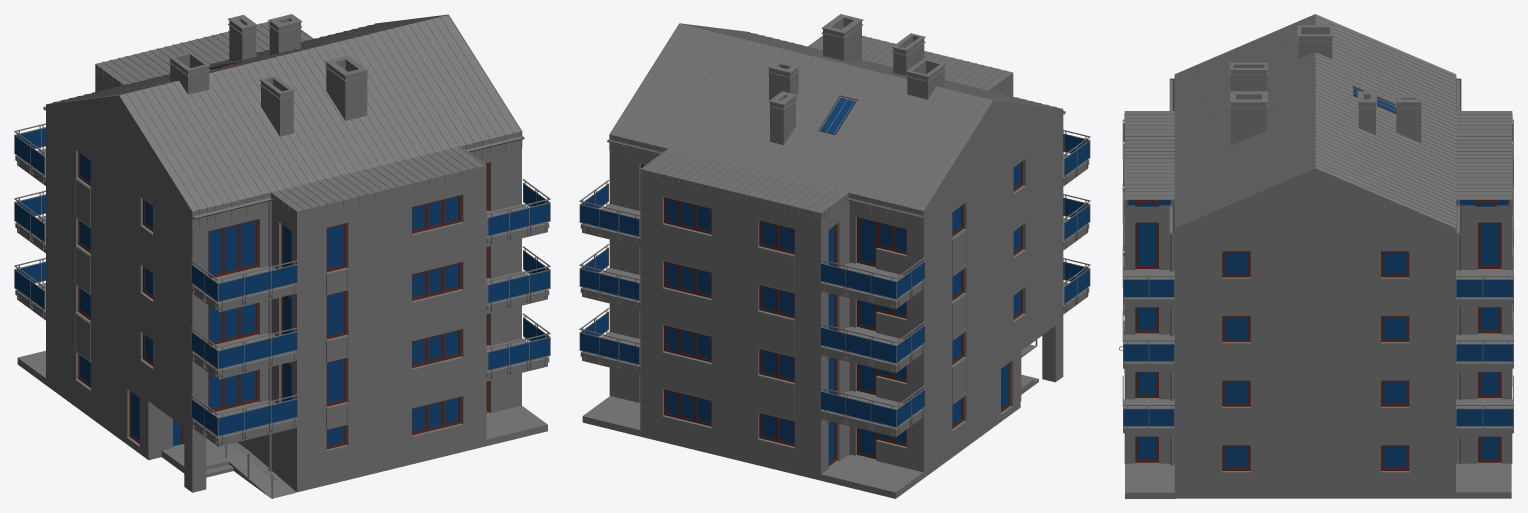
Rendered from apartment.glb.
3 renders of one model, left to right at view 1: azimuth 30°, elevation 25°; view 2: azimuth 150°, elevation 25°; view 3: azimuth 270°, elevation 25°, orthographic. The views are drawn at different scales.
Parts seen in each view (by area): view 1: building_walls, roof, foundation_wall, chimney, mesh_mm2 (×2), metal_cover, eneter_floor, mesh_mm16 (×2), mesh_mm12, mesh_mm14, mesh_mm13 (×2), mesh_mm19 (×2) (+22 smaller); view 2: building_walls, roof, foundation_wall, mesh_mm2 (×3), chimney, metal_cover, mesh_mm4 (×2), mesh_mm1 (×3), barrels, mesh_mm7 (×2), mesh_mm10, mesh_mm8 (+17 smaller); view 3: building_walls, roof, foundation_wall, mesh_mm2, chimney, metal_cover, mesh_mm22 (×2), mesh_mm7 (×2), gutters_002, mesh_mm8, mesh_mm6, mesh_mm10 (+20 smaller).
Part boxes in pixels (x1,y1,x2,y2): building_walls: [46, 71, 521, 418]; roof: [46, 14, 522, 228]; foundation_wall: [46, 312, 521, 492]; chimney: [169, 14, 368, 136]; mesh_mm2 (×2): [15, 195, 192, 380]; metal_cover: [15, 148, 549, 442]; eneter_floor: [161, 439, 296, 498]; mesh_mm16 (×2): [191, 265, 343, 335]; mesh_mm12: [191, 399, 296, 435]; mesh_mm14: [191, 332, 296, 368]; mesh_mm13 (×2): [190, 359, 343, 444]; mesh_mm19 (×2): [327, 179, 550, 268]; building_walls: [609, 79, 1063, 410]; roof: [609, 23, 1063, 226]; foundation_wall: [609, 306, 1063, 480]; mesh_mm2 (×3): [758, 116, 1063, 362]; chimney: [767, 14, 945, 144]; metal_cover: [580, 153, 1089, 433]; mesh_mm4 (×2): [758, 262, 924, 420]; mesh_mm1 (×3): [820, 97, 1063, 435]; barrels: [821, 390, 924, 426]; mesh_mm7 (×2): [579, 308, 640, 429]; mesh_mm10: [580, 185, 638, 236]; mesh_mm8: [580, 249, 638, 300]; building_walls: [1124, 177, 1512, 427]; roof: [1124, 14, 1512, 244]; foundation_wall: [1124, 428, 1512, 498]; mesh_mm2: [1250, 298, 1380, 427]; chimney: [1229, 25, 1422, 145]; metal_cover: [1123, 144, 1512, 432]; mesh_mm22 (×2): [1123, 252, 1247, 425]; mesh_mm7 (×2): [1456, 375, 1513, 492]; gutters_002: [1170, 200, 1460, 465]; mesh_mm8: [1456, 344, 1512, 361]; mesh_mm6: [1456, 409, 1512, 425]; mesh_mm10: [1456, 280, 1512, 296].
Bounding box in the file's own units: 6.12 × 6.34 × 6.55.
